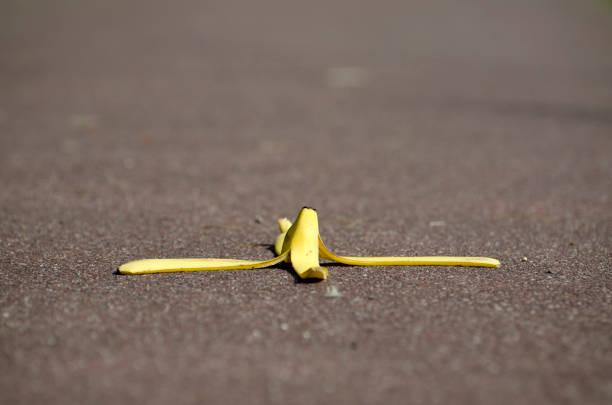trash: (107, 199, 510, 305)
